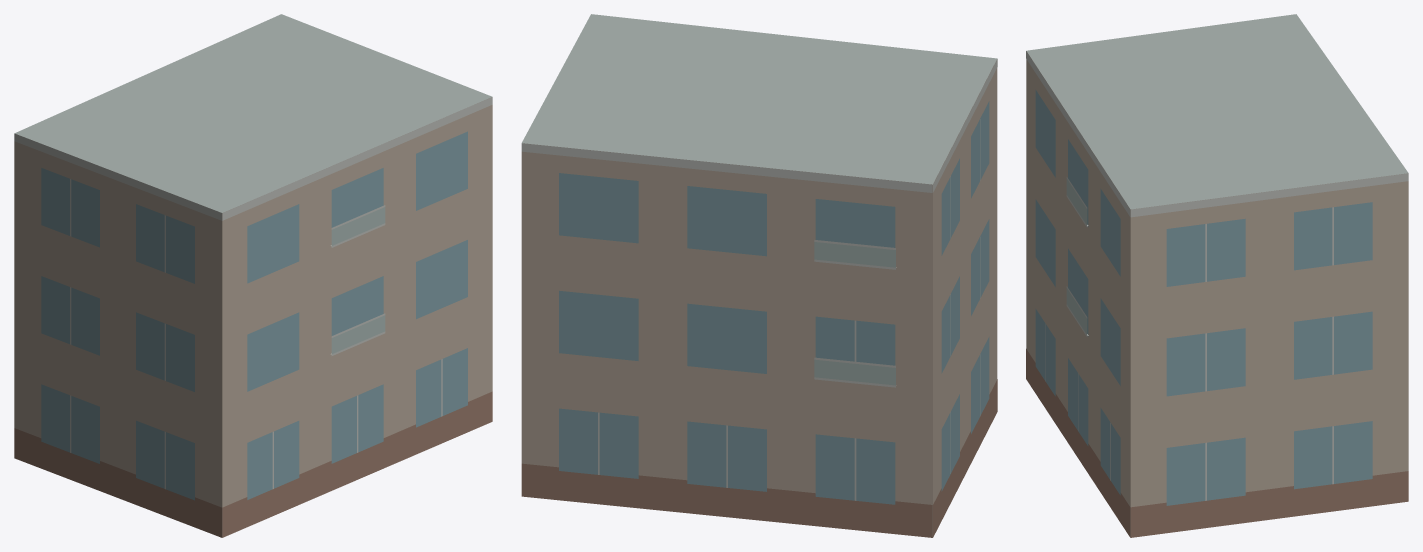
The model's file is survey-upis-32614753.glb.
3 views of the same model, side by side, from view 1: azimuth 30°, elevation 25°; view 2: azimuth 150°, elevation 25°; view 3: azimuth 270°, elevation 25° (orthographic). The views are drawn at different scales.
Parts seen in each view (by area): view 1: survey-upis-32614753.tmp; view 2: survey-upis-32614753.tmp; view 3: survey-upis-32614753.tmp.
Part boxes in pixels (x1,y1,x2,y2): survey-upis-32614753.tmp: [14, 14, 492, 537]; survey-upis-32614753.tmp: [521, 14, 997, 537]; survey-upis-32614753.tmp: [1026, 14, 1408, 537].
Bounding box in the file's own units: 12.9 × 10.1 × 10.67.
